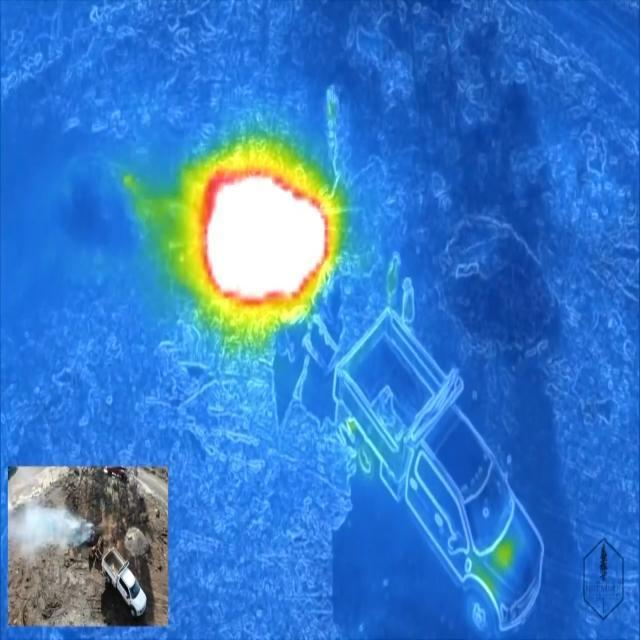fire: (171, 132, 348, 338)
